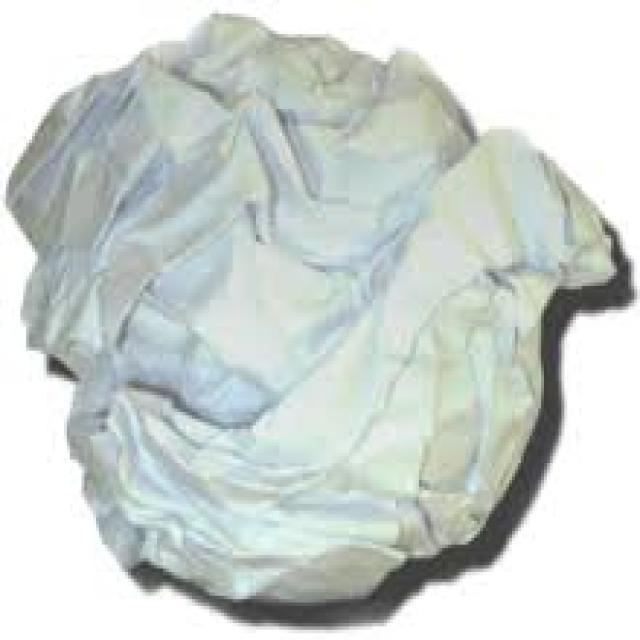Paper: (3, 10, 633, 600)
